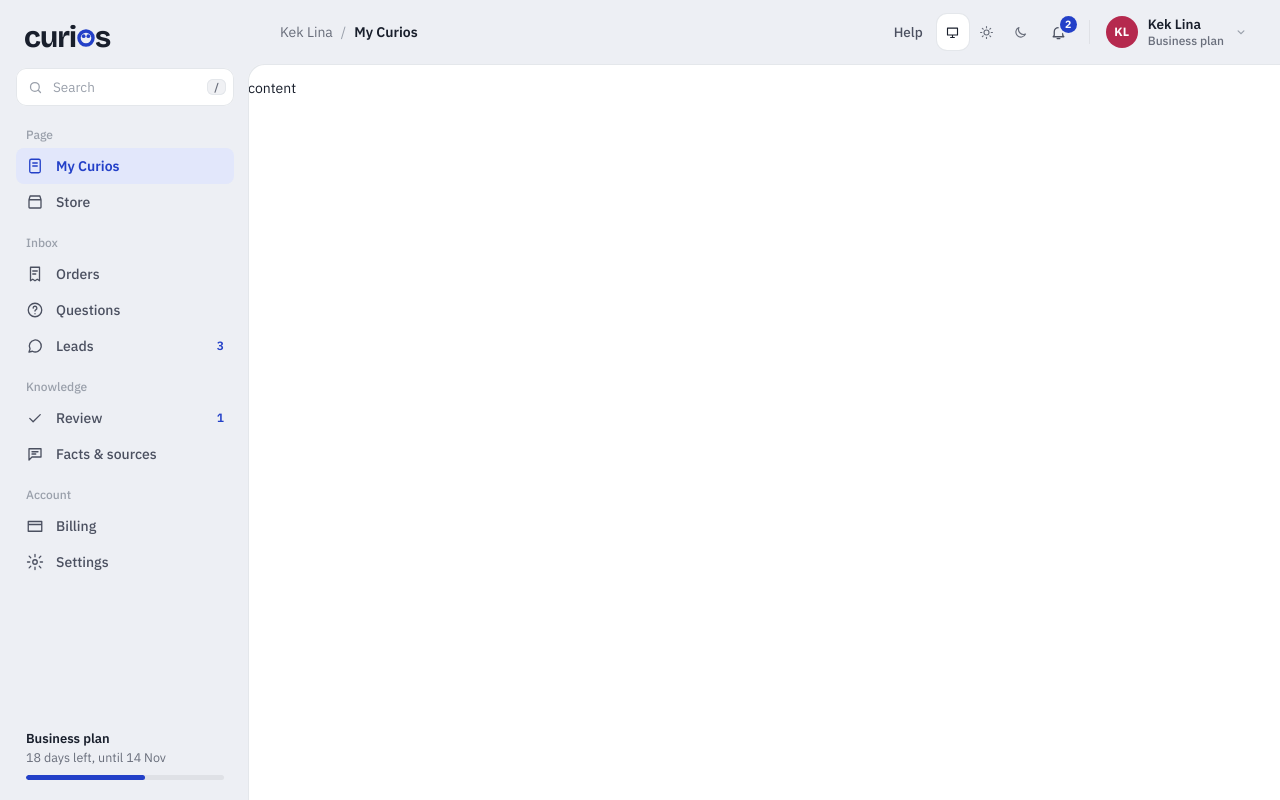
Test: the top bar › counts as new only what came after the read: a higher count, an alert not read
Click the button named "Notifications": (1059, 32) x1=1041 y1=14 x2=1077 y2=50
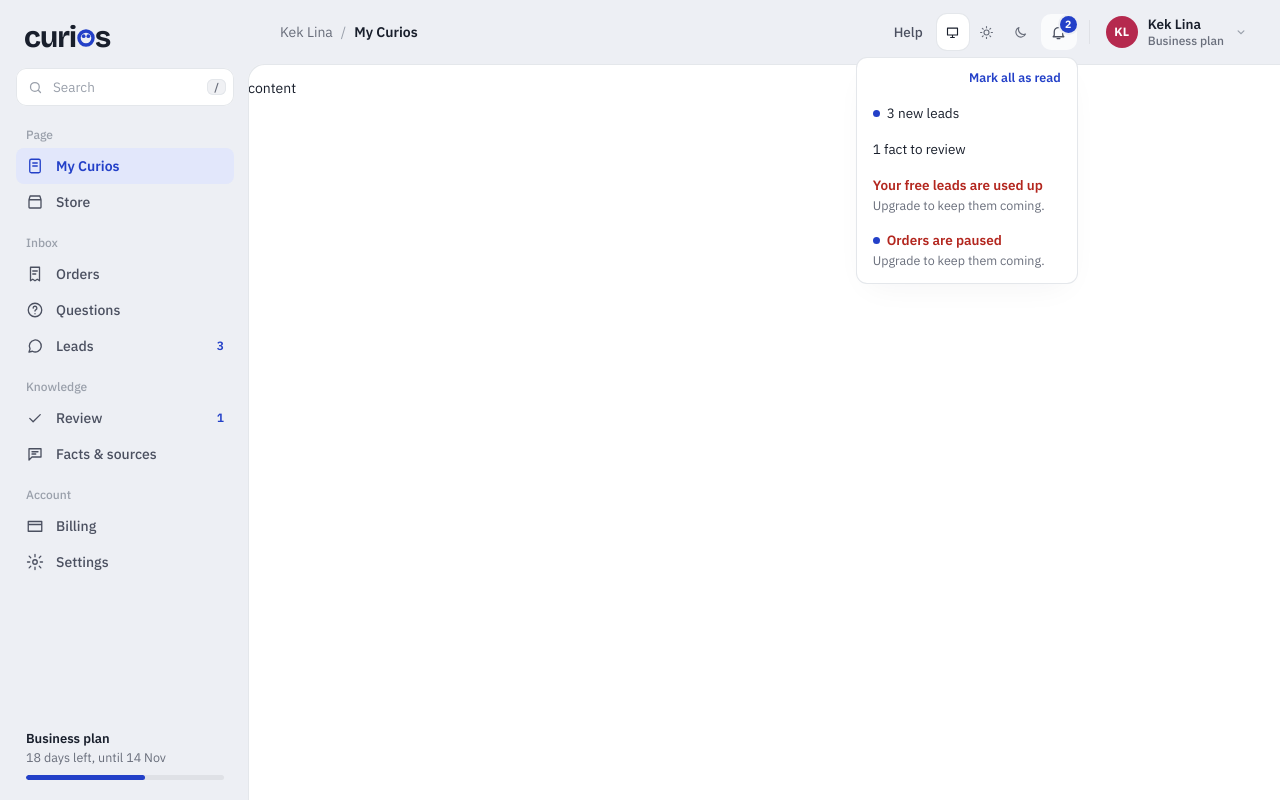
Check: the text "Orders are paused" is shown, box x1=887 y1=231 x2=1002 y2=249
